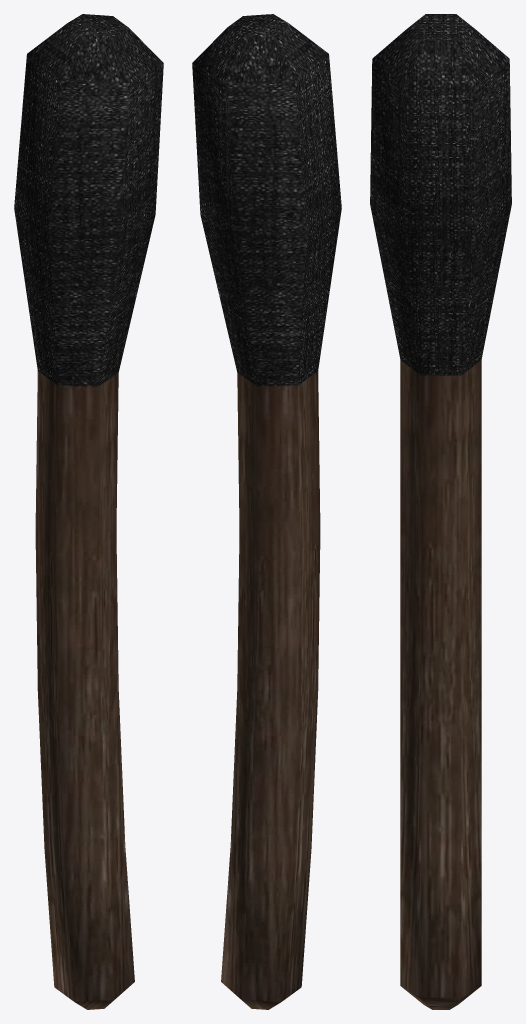
File: torch.glb
3 views of the same model, side by side, from view 1: azimuth 30°, elevation 25°; view 2: azimuth 150°, elevation 25°; view 3: azimuth 270°, elevation 25° (orthographic).
Parts seen in each view (by area): view 1: Cylinder; view 2: Cylinder; view 3: Cylinder.
Part boxes in pixels (box(x1,y1,x2,y2)): Cylinder: box(14, 14, 163, 1009); Cylinder: box(192, 14, 341, 1009); Cylinder: box(370, 14, 511, 1009).
Bounding box in the file's own units: 0.0656 × 0.5345 × 0.07.
1 material, 1 textured.
